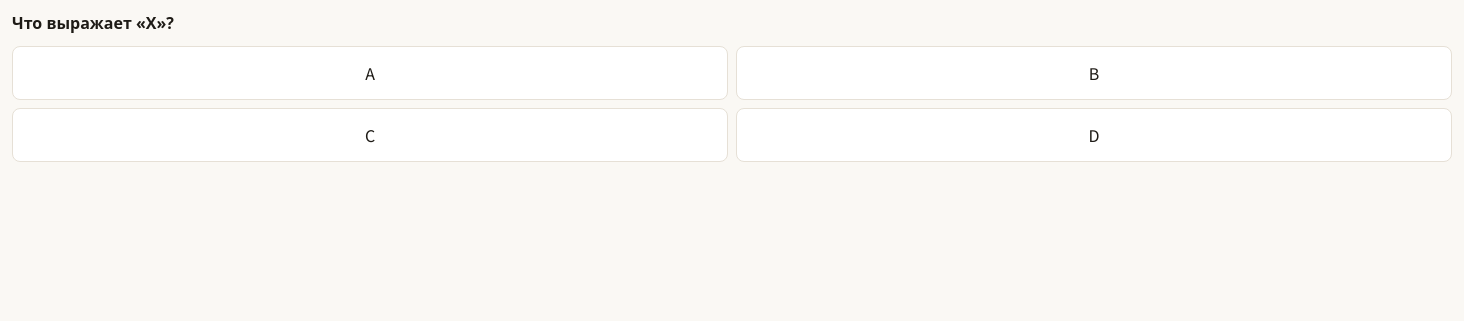
Test: GrammarReinforceStep › keeps questions that differ in kind or prompt
The width and height of the screenshot is (1464, 321).
Click the button "A": click(370, 73) left=12, top=46, right=728, bottom=100
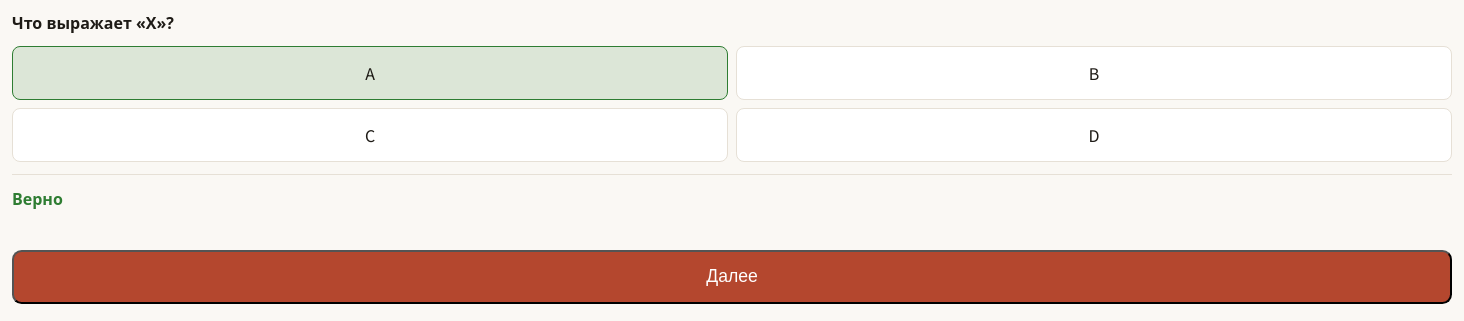
expect the button "Далее" is shown: met, box left=12, top=250, right=1452, bottom=304
